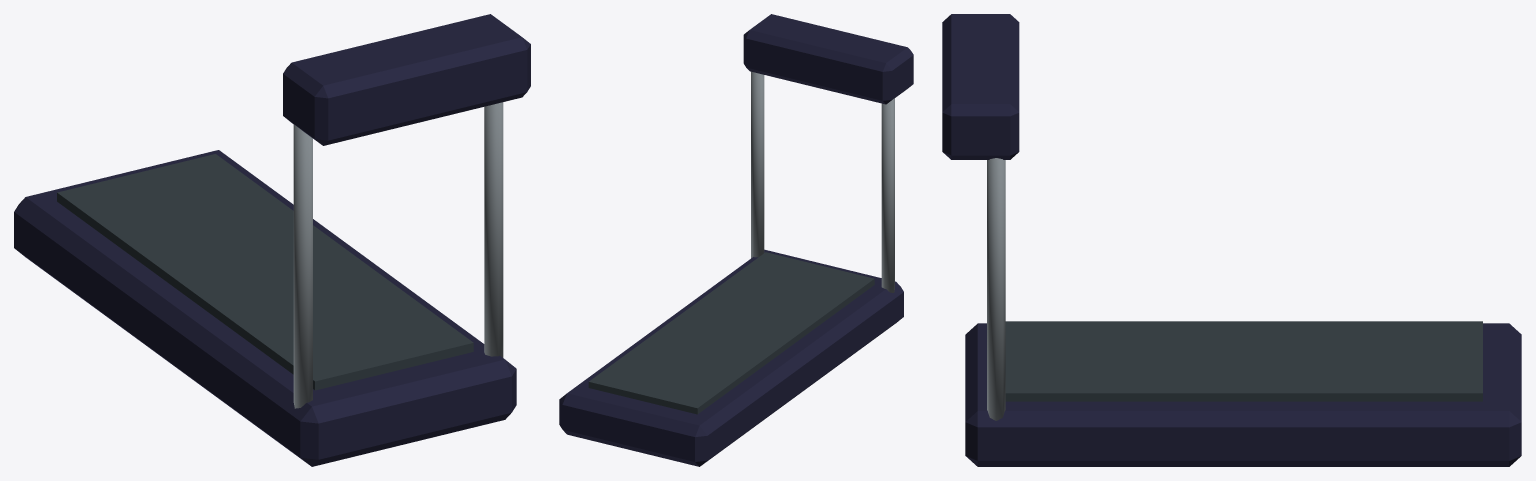
Rendered from treadmill.glb.
3 renders of one model, left to right at view 1: azimuth 30°, elevation 25°; view 2: azimuth 150°, elevation 25°; view 3: azimuth 270°, elevation 25°, orthographic. The views are drawn at different scales.
Parts seen in each view (by area): view 1: treadmill; view 2: treadmill; view 3: treadmill.
Part boxes in pixels (x1,y1,x2,y2): treadmill: (14,14,530,466); treadmill: (559,14,913,466); treadmill: (942,14,1521,466).
Bounding box in the file's own units: 0.7499 × 1.3 × 1.88.
